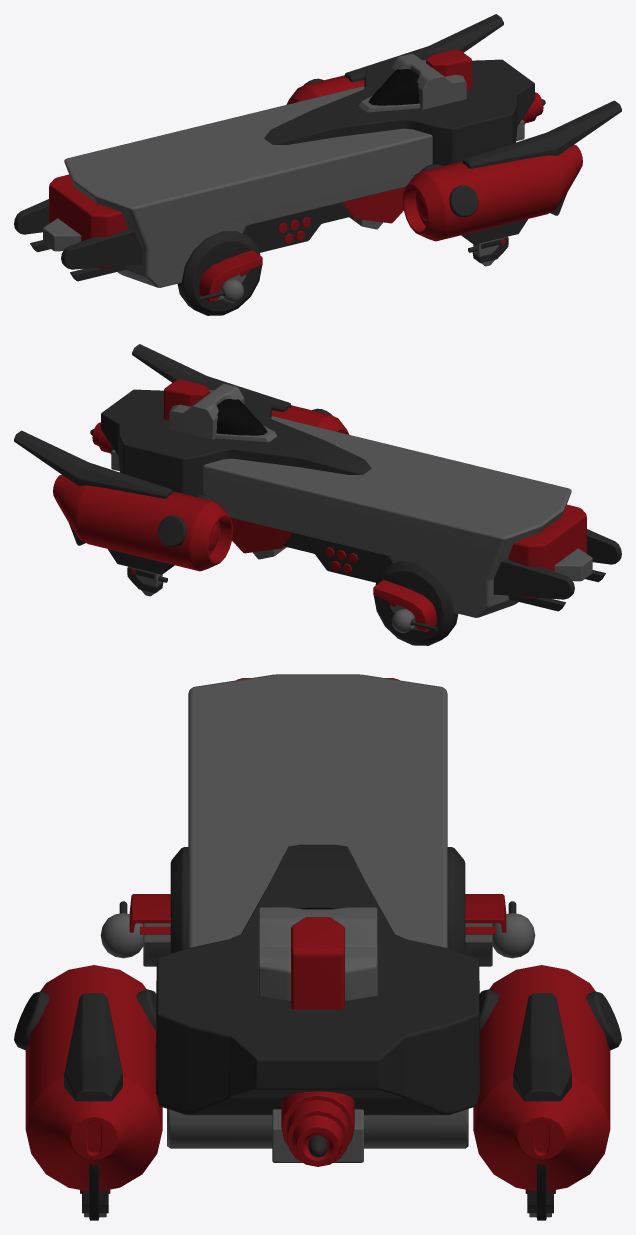
The model's file is frigate_3.glb.
3 views of the same model, one above another, from view 1: azimuth 30°, elevation 25°; view 2: azimuth 150°, elevation 25°; view 3: azimuth 270°, elevation 25° (orthographic). The views are drawn at different scales.
Visible parts, largest first — view 1: Frigate_3; view 2: Frigate_3; view 3: Frigate_3.
Boxes of the visible parts, left/top/right/bottom form: Frigate_3: left=14, top=14, right=621, bottom=315; Frigate_3: left=14, top=344, right=621, bottom=645; Frigate_3: left=14, top=674, right=621, bottom=1220.
Bounding box in the file's own units: 4102 × 1274 × 2189.
1 material, 1 textured.
